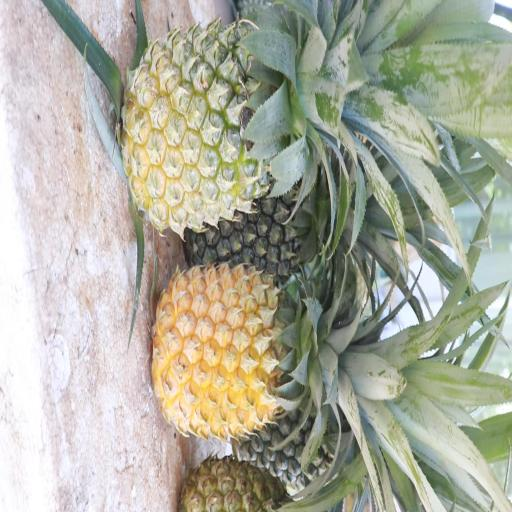------------------------------: (127, 28, 313, 220)
Pineapple - v8 v1: (157, 265, 325, 441)
